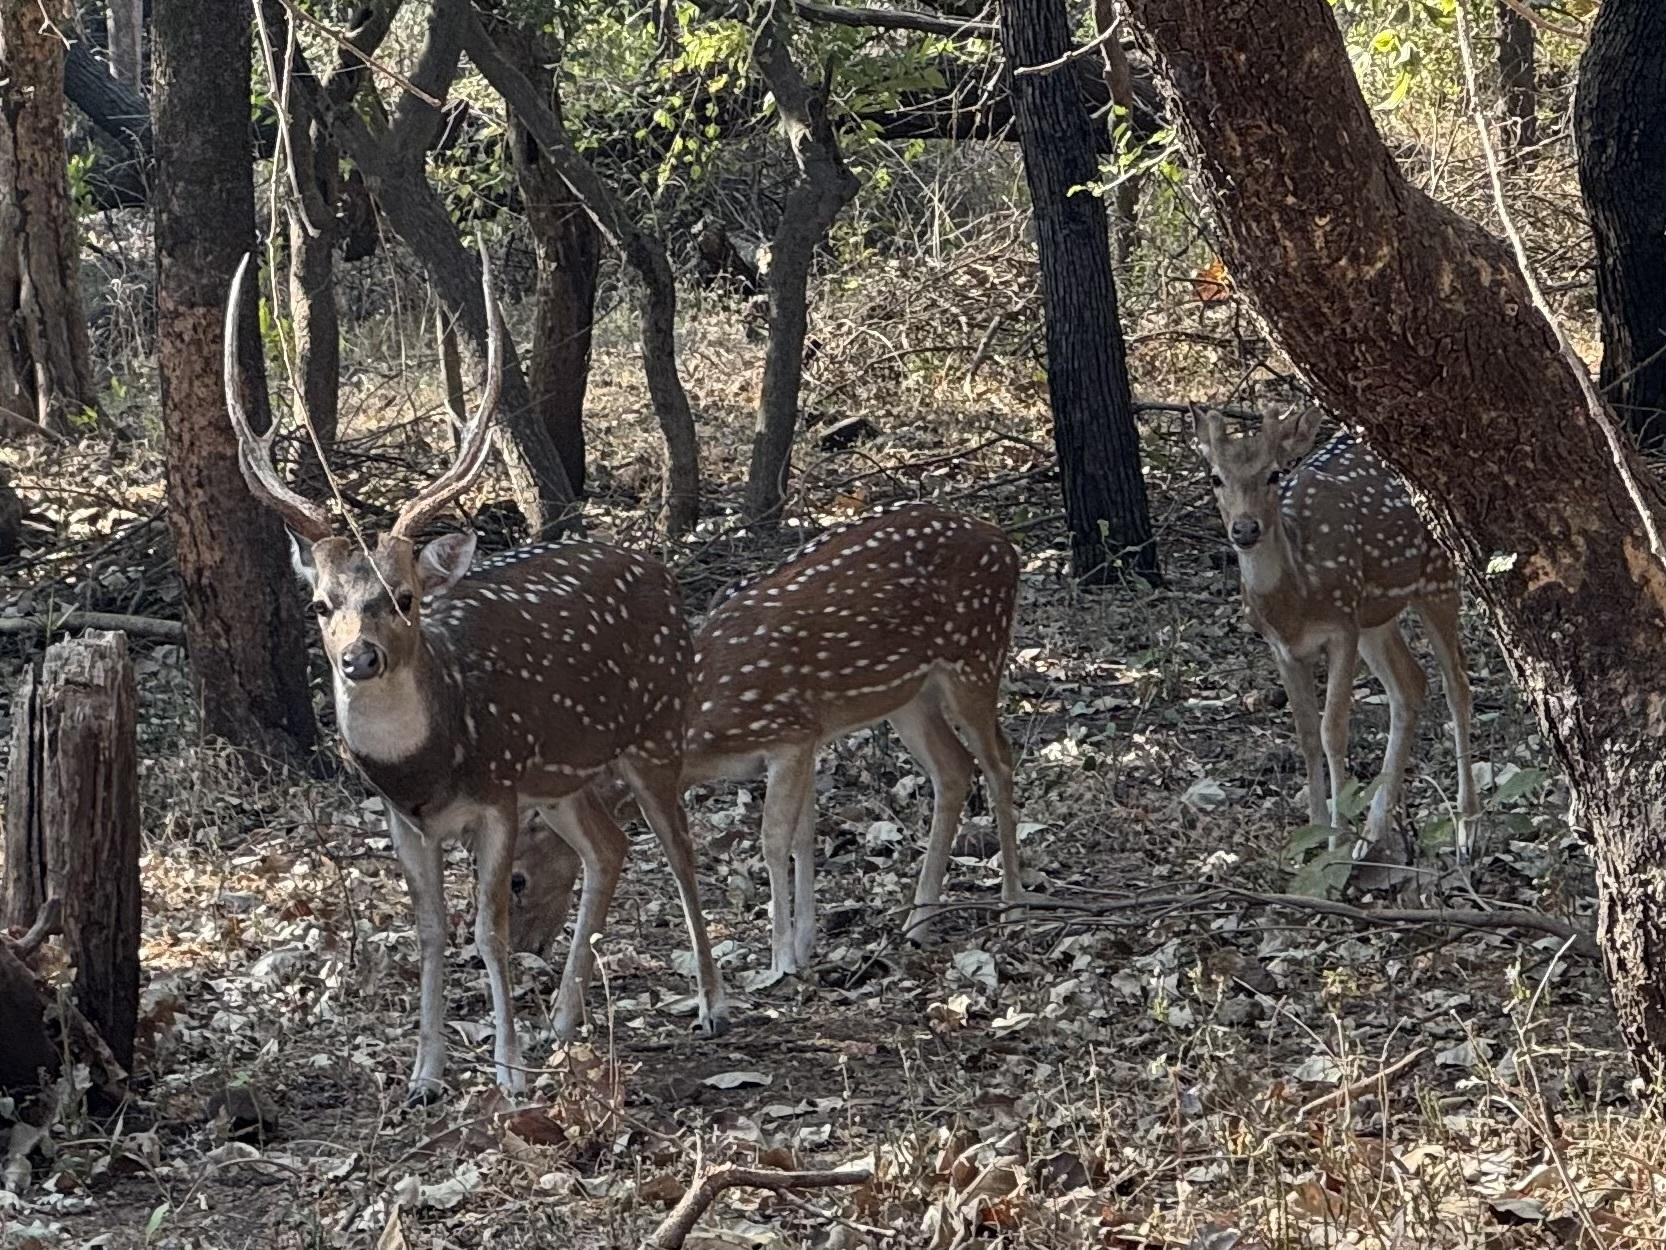Deer: (224, 263, 719, 1091), (679, 503, 1023, 983), (1191, 404, 1481, 843)
